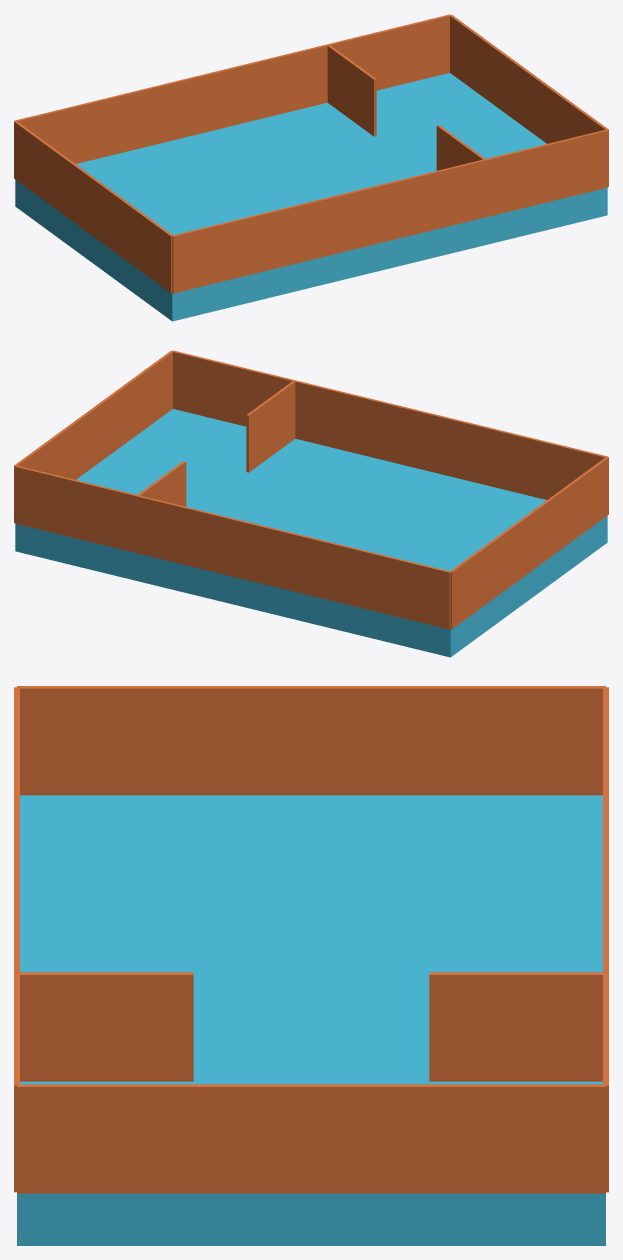
File: Layout Level 1.fbx
The picture shows the model from 3 angles, top to bottom: view 1: azimuth 30°, elevation 25°; view 2: azimuth 150°, elevation 25°; view 3: azimuth 270°, elevation 25°; orthographic projection. The views are drawn at different scales.
Parts seen in each view (by area): view 1: Cube, Cube.001, Cube.004, Cube.003, Cube.002, Cube.006, Cube.005; view 2: Cube, Cube.004, Cube.001, Cube.003, Cube.002, Cube.005, Cube.006; view 3: Cube, Cube.002, Cube.003, Cube.005, Cube.006, Cube.004, Cube.001.
Boxes of the visible parts, x1,y1,x2,y2 form: Cube: [15, 73, 607, 321]; Cube.001: [172, 129, 608, 293]; Cube.004: [15, 14, 450, 163]; Cube.003: [14, 121, 173, 293]; Cube.002: [450, 14, 608, 186]; Cube.006: [327, 45, 376, 136]; Cube.005: [436, 125, 486, 170]; Cube: [15, 409, 607, 657]; Cube.004: [14, 465, 450, 629]; Cube.001: [173, 350, 607, 499]; Cube.003: [450, 457, 608, 629]; Cube.002: [14, 350, 173, 522]; Cube.005: [246, 380, 295, 472]; Cube.006: [137, 461, 186, 506]; Cube: [17, 795, 605, 1245]; Cube.002: [17, 1084, 605, 1193]; Cube.003: [17, 686, 605, 795]; Cube.005: [17, 972, 193, 1081]; Cube.006: [429, 972, 602, 1081]; Cube.004: [603, 687, 608, 1192]; Cube.001: [14, 687, 19, 1192].
Size of the model in its own units: 3220 by 600 by 2020.
